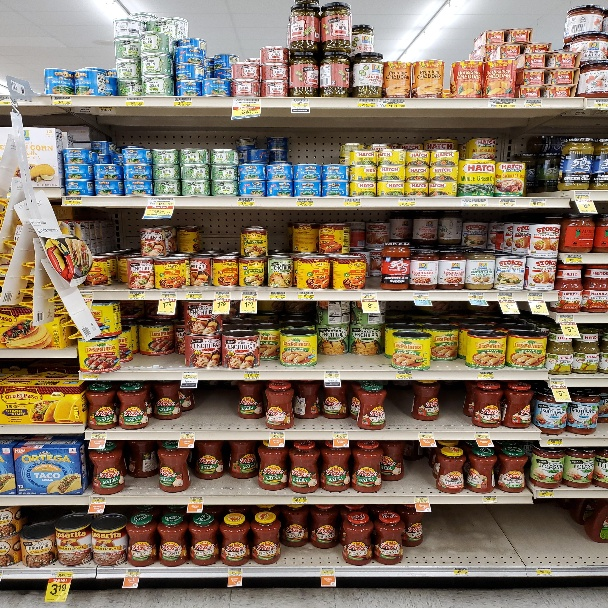All PRICE TAGS: (488, 98, 516, 107), (378, 99, 406, 107), (462, 199, 488, 207), (233, 99, 261, 106), (52, 96, 73, 105), (148, 198, 175, 205), (50, 570, 73, 578), (124, 97, 144, 106), (62, 197, 82, 206), (174, 97, 193, 106), (357, 98, 376, 107), (524, 98, 543, 107), (530, 198, 547, 207), (566, 254, 583, 263), (185, 291, 203, 299), (128, 291, 146, 299), (398, 198, 416, 206), (536, 567, 552, 576), (343, 199, 361, 207), (241, 291, 258, 299), (160, 291, 177, 299), (499, 199, 516, 207), (82, 373, 99, 381), (292, 99, 309, 107), (395, 371, 412, 379), (547, 438, 563, 446), (227, 568, 243, 576), (188, 496, 204, 504), (418, 431, 434, 439), (332, 431, 348, 439), (245, 371, 261, 379), (594, 99, 608, 108), (237, 198, 255, 205), (296, 199, 314, 206), (477, 372, 495, 379), (575, 191, 590, 199), (292, 496, 307, 504), (91, 496, 106, 504), (183, 371, 198, 379), (360, 292, 377, 299), (558, 315, 575, 322), (90, 432, 107, 439), (498, 293, 515, 300), (298, 292, 314, 299), (270, 292, 286, 299), (215, 292, 231, 299), (540, 490, 554, 498), (320, 568, 334, 576), (483, 495, 497, 503), (474, 432, 490, 439), (324, 371, 340, 378), (527, 293, 543, 300), (454, 568, 469, 575), (125, 570, 140, 577), (414, 496, 429, 503), (270, 431, 285, 438), (180, 432, 195, 439), (80, 291, 93, 299), (551, 379, 565, 386), (468, 293, 484, 299), (413, 293, 429, 299)
